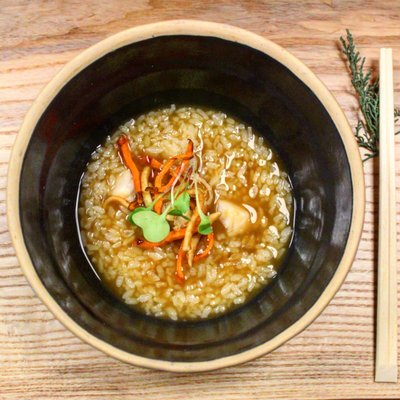sushi: (7, 15, 384, 384)
